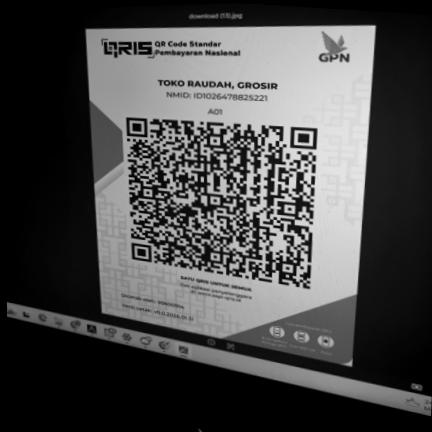Cara Pakai QRIS: (257, 312, 353, 366)
Cek Aplikasi Penyelenggara: (177, 281, 256, 307)
Dicetak Oleh: (119, 291, 186, 311)
Logo GPN: (310, 28, 358, 67)
Logo dan deskripsi QRIS: (97, 33, 251, 62)
Nama Merchant: (154, 77, 284, 93)
National Merchant ID: (153, 88, 283, 106)
QR Code: (120, 114, 323, 293)
Slogan: (177, 274, 256, 294)
Terminal ID: (201, 107, 228, 117)
Versi Cetak: (119, 300, 196, 324)
